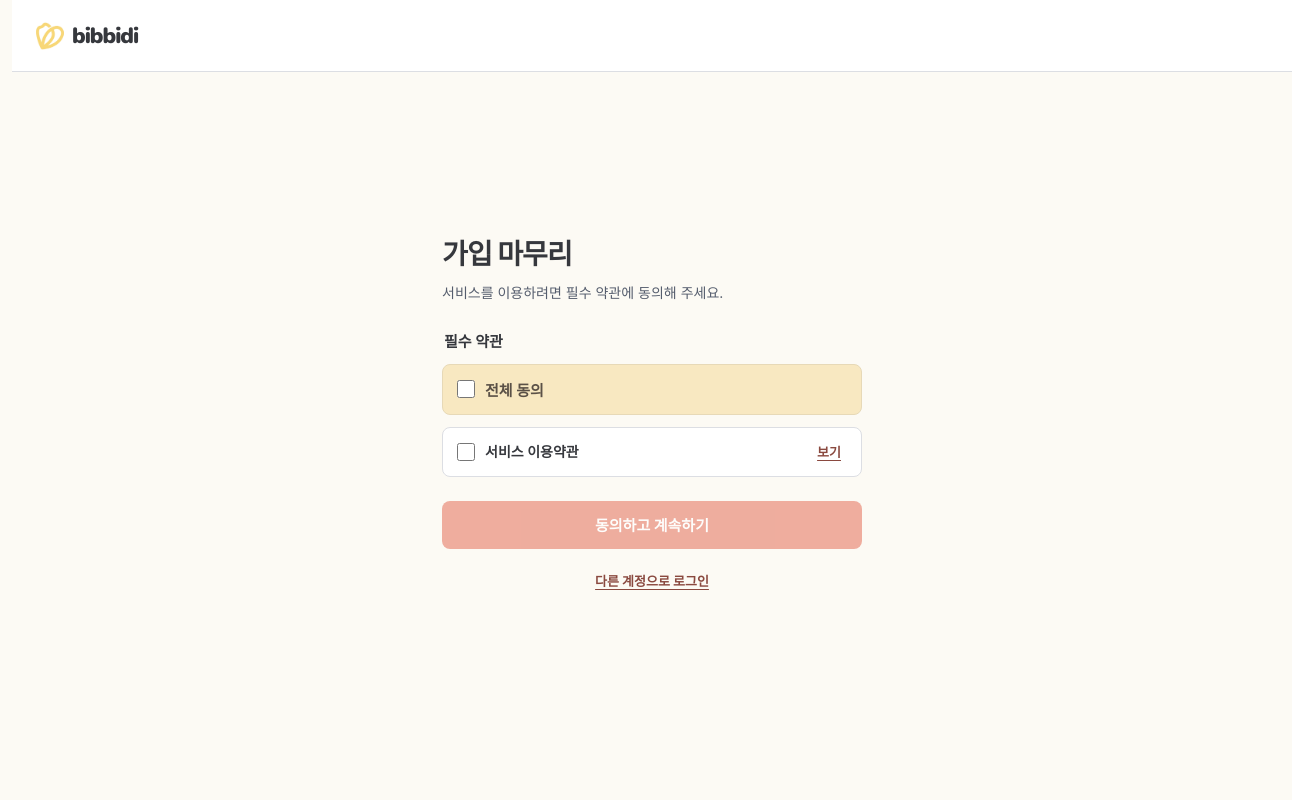
Test case: appRoutes › 약관 동의 뒤 새 계정 체크리스트를 만들고 홈으로 이동한다
The width and height of the screenshot is (1292, 800).
Check: the text "서비스 이용약관" is shown, box [485,442,579,462]
Click the checkbox labelled "전체 동의": (466, 389) [457,380,475,398]
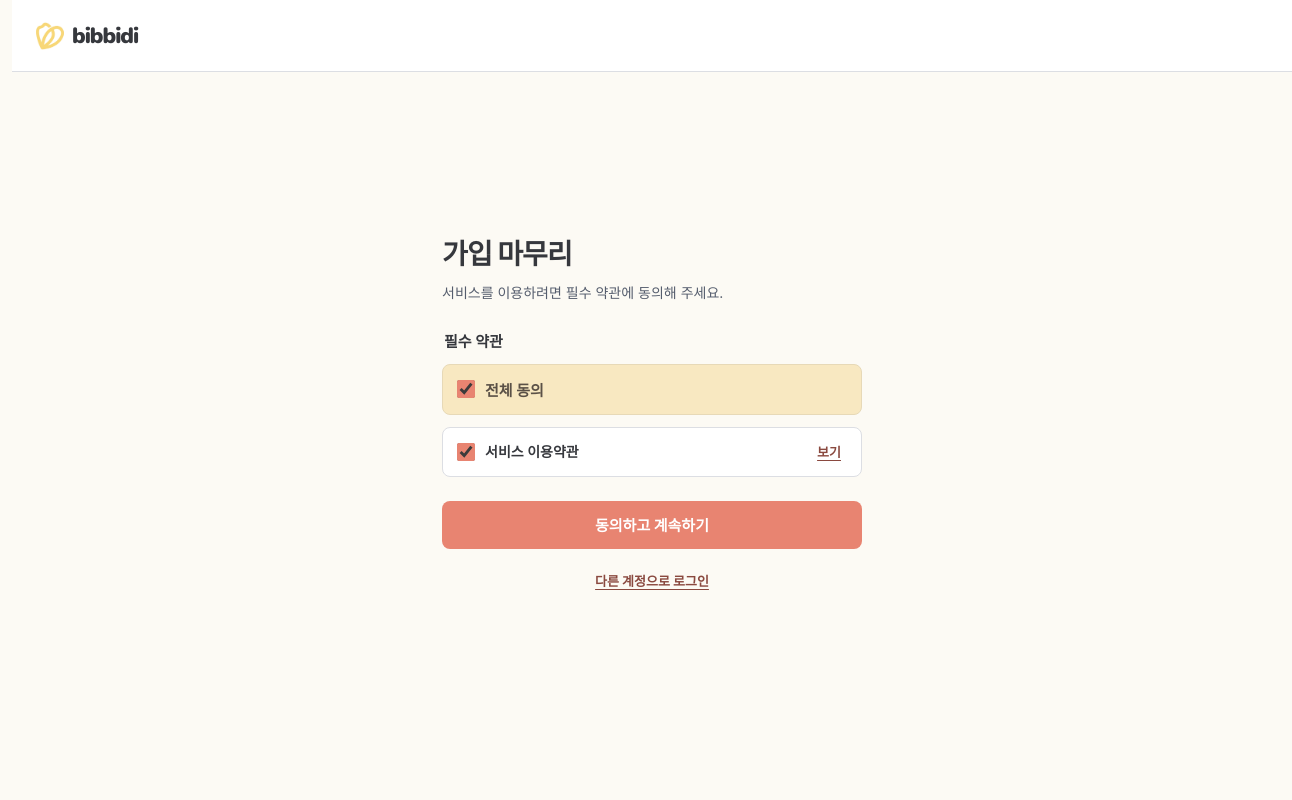
Click the button "동의하고 계속하기": (652, 525) [442,501,862,549]
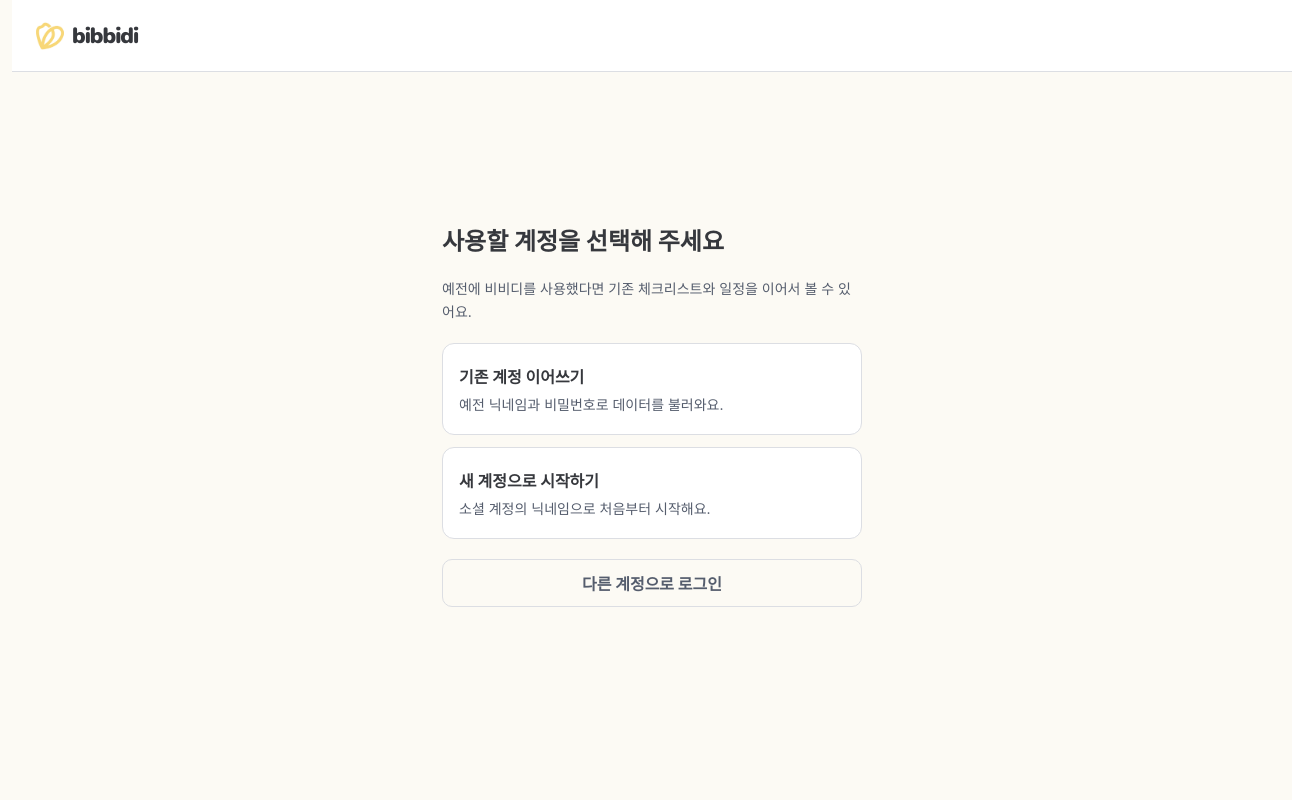
Check: the heading "사용할 계정을 선택해 주세요" is shown, box [442,227,724,256]
Click the button "새 계정으로 시작하기 소셜 계정의 닉네임으로 처음부터 시작해요.": (529, 481) [442,447,862,539]
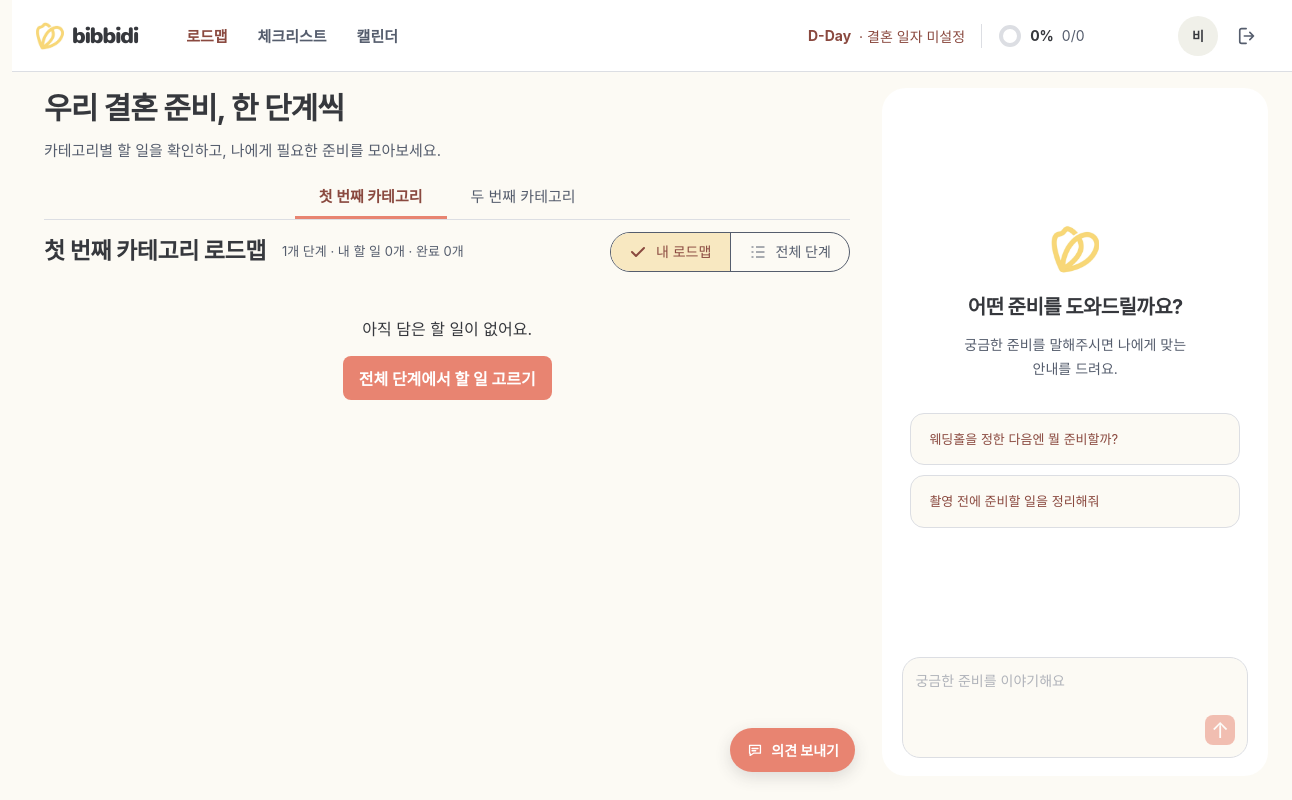
Check: the heading "첫 번째 카테고리 로드맵" is shown, box [44,235,266,268]
